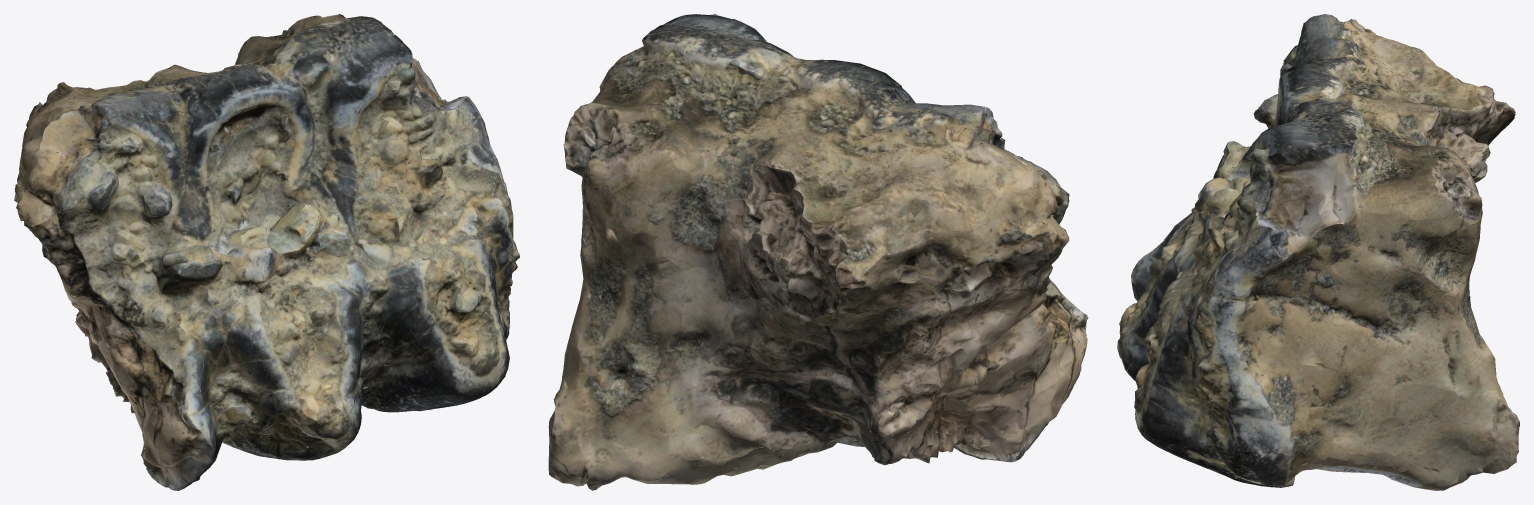
File: asset.glb
3 renders of one model, left to right at view 1: azimuth 30°, elevation 25°; view 2: azimuth 150°, elevation 25°; view 3: azimuth 270°, elevation 25°, orthographic. The views are drawn at different scales.
Visible parts, largest first — view 1: Mesh_0; view 2: Mesh_0; view 3: Mesh_0.
Part boxes in pixels (x1,y1,x2,y2): Mesh_0: (14,14,519,490); Mesh_0: (548,14,1088,490); Mesh_0: (1117,14,1519,490).
Size of the model in its own units: 0.5035 by 0.3957 by 0.4116.
Materials: 1 (1 with a texture image).
